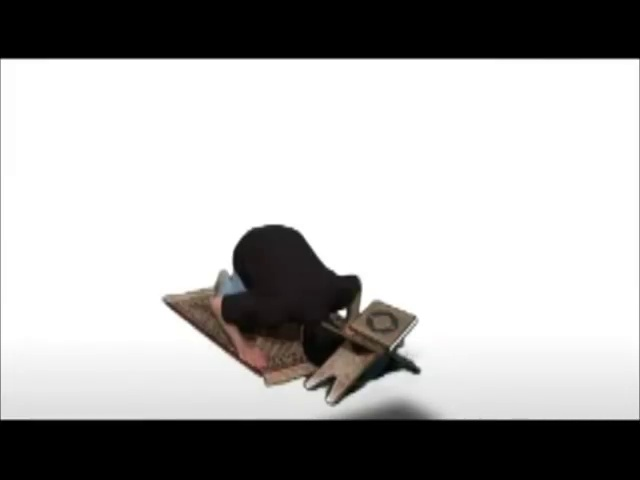sujud: (209, 221, 370, 379)
